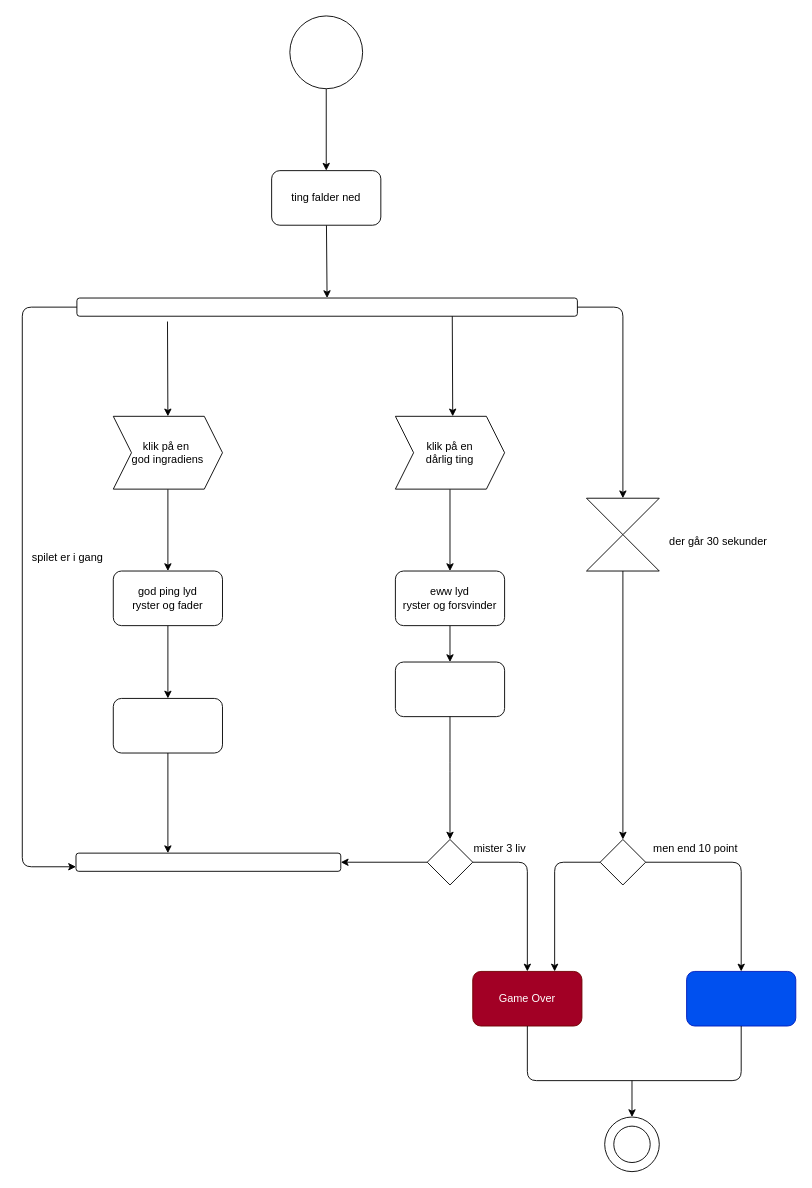
Some shapes in this 812 by 1188 pixel diagram are drawn without their labels. Each missing label, with the centre of its shape:
"giv 1 point" belongs at (167,725).
"Level complet" belongs at (741,998).
"mister et liv" belongs at (449,689).
